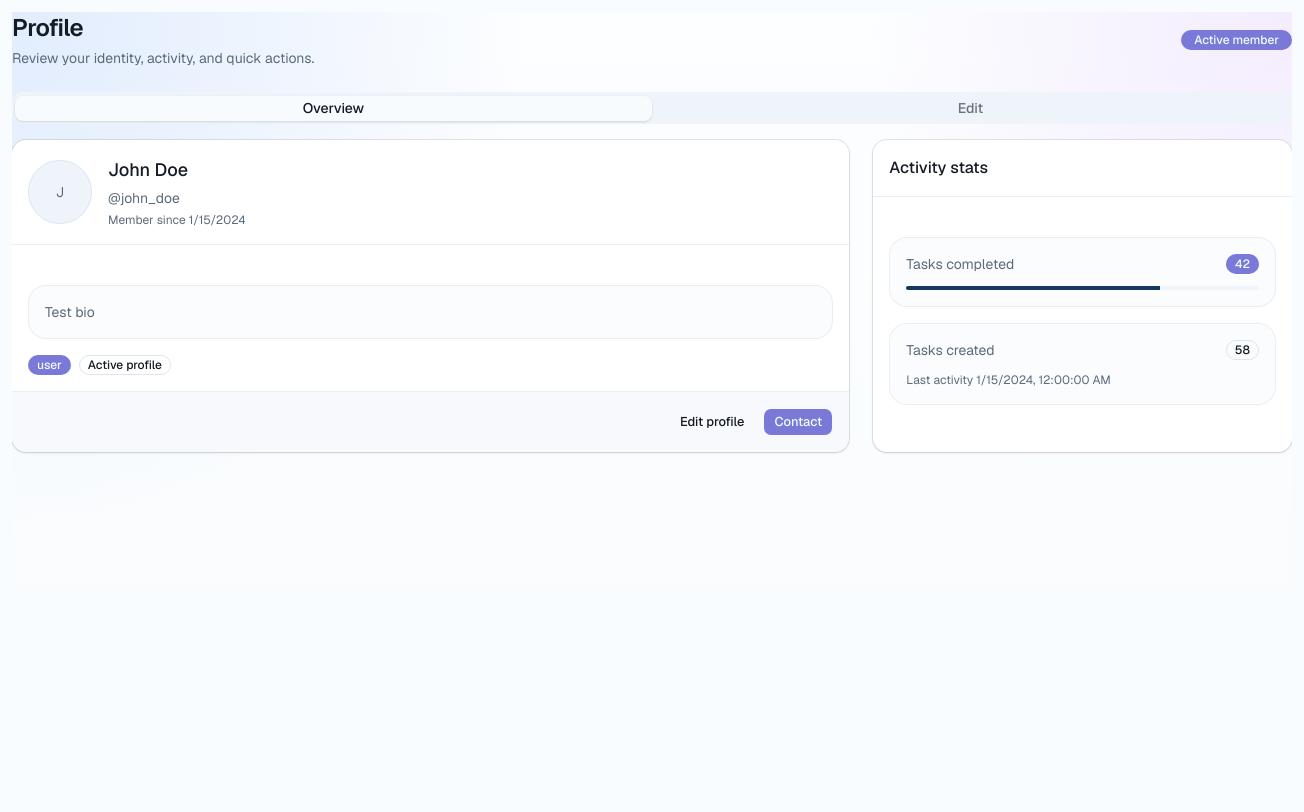
ProfileSection › should show cancel button in edit mode
Click the tab "Edit": click(970, 108) [652,96,1289,120]
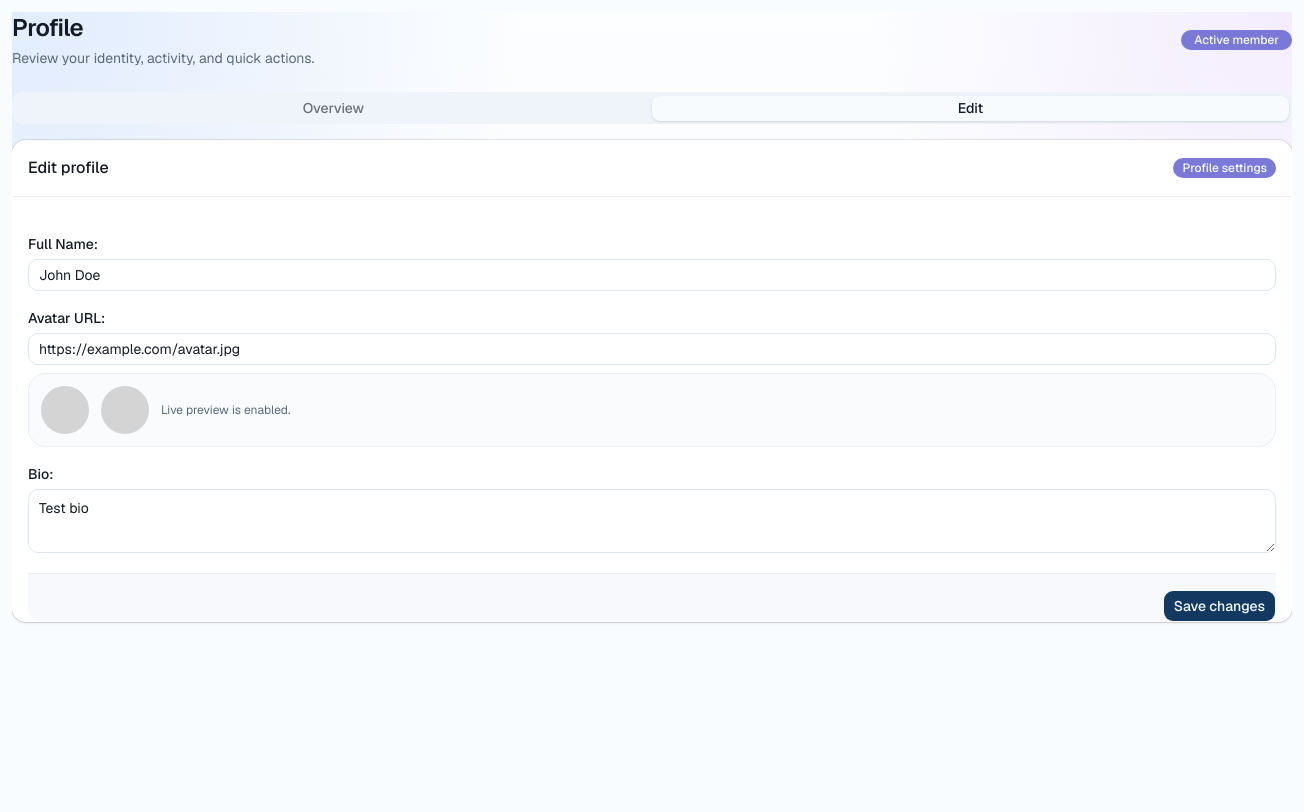
Now the button "Save changes" is shown, box [1163,590,1276,622]
